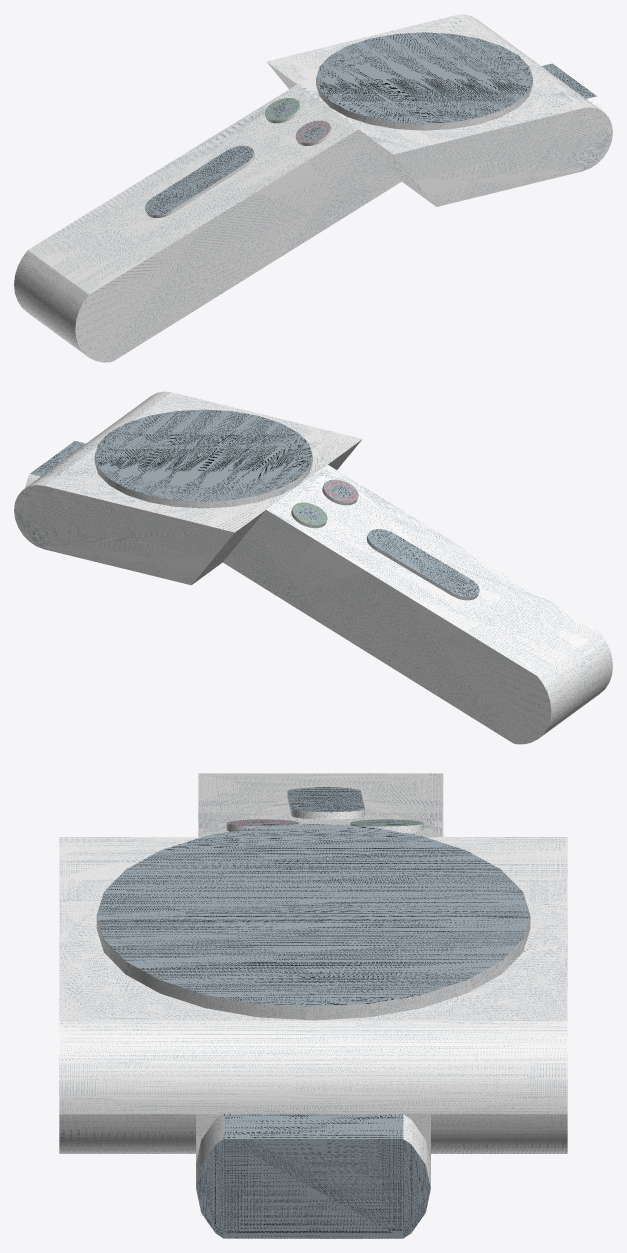
The model's file is Controller.fbx.
The picture shows the model from 3 angles, top to bottom: view 1: azimuth 30°, elevation 25°; view 2: azimuth 150°, elevation 25°; view 3: azimuth 270°, elevation 25°; orthographic projection. The views are drawn at different scales.
Parts seen in each view (by area): view 1: Model; view 2: Model; view 3: Model.
Part boxes in pixels (bbox=[...]): Model: bbox=[14, 14, 612, 362]; Model: bbox=[14, 391, 612, 744]; Model: bbox=[59, 773, 567, 1238].
Size of the model in its own units: 0.2661 by 0.0863 by 0.1108.
